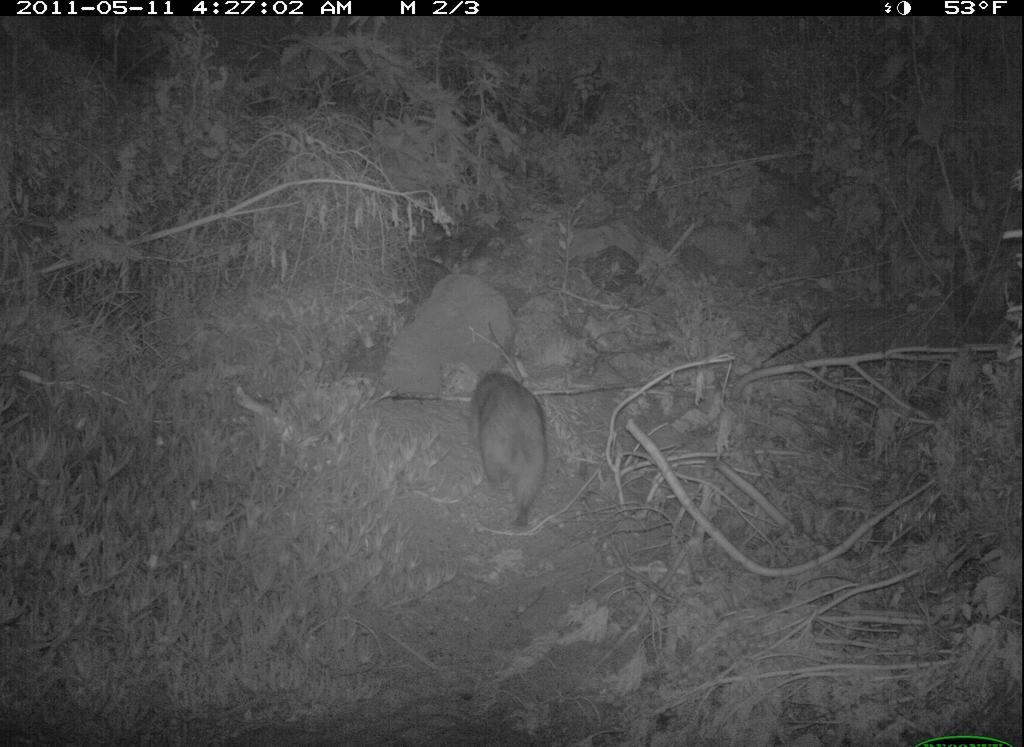raccoon: (464, 370, 557, 539)
